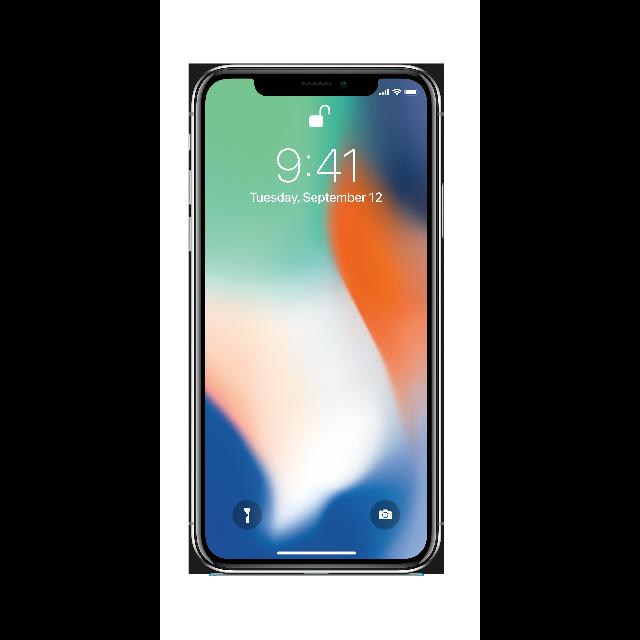Smartphone: (189, 67, 442, 575)
